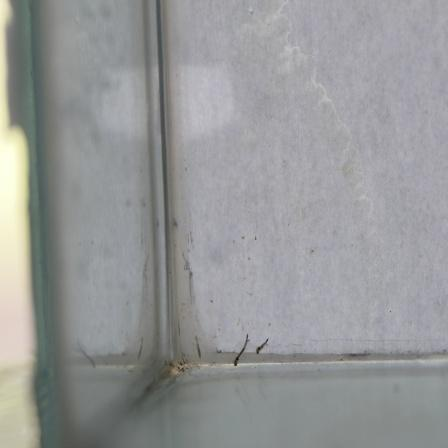Jentik-Nyamuk: (228, 331, 251, 368), (251, 335, 273, 358)
